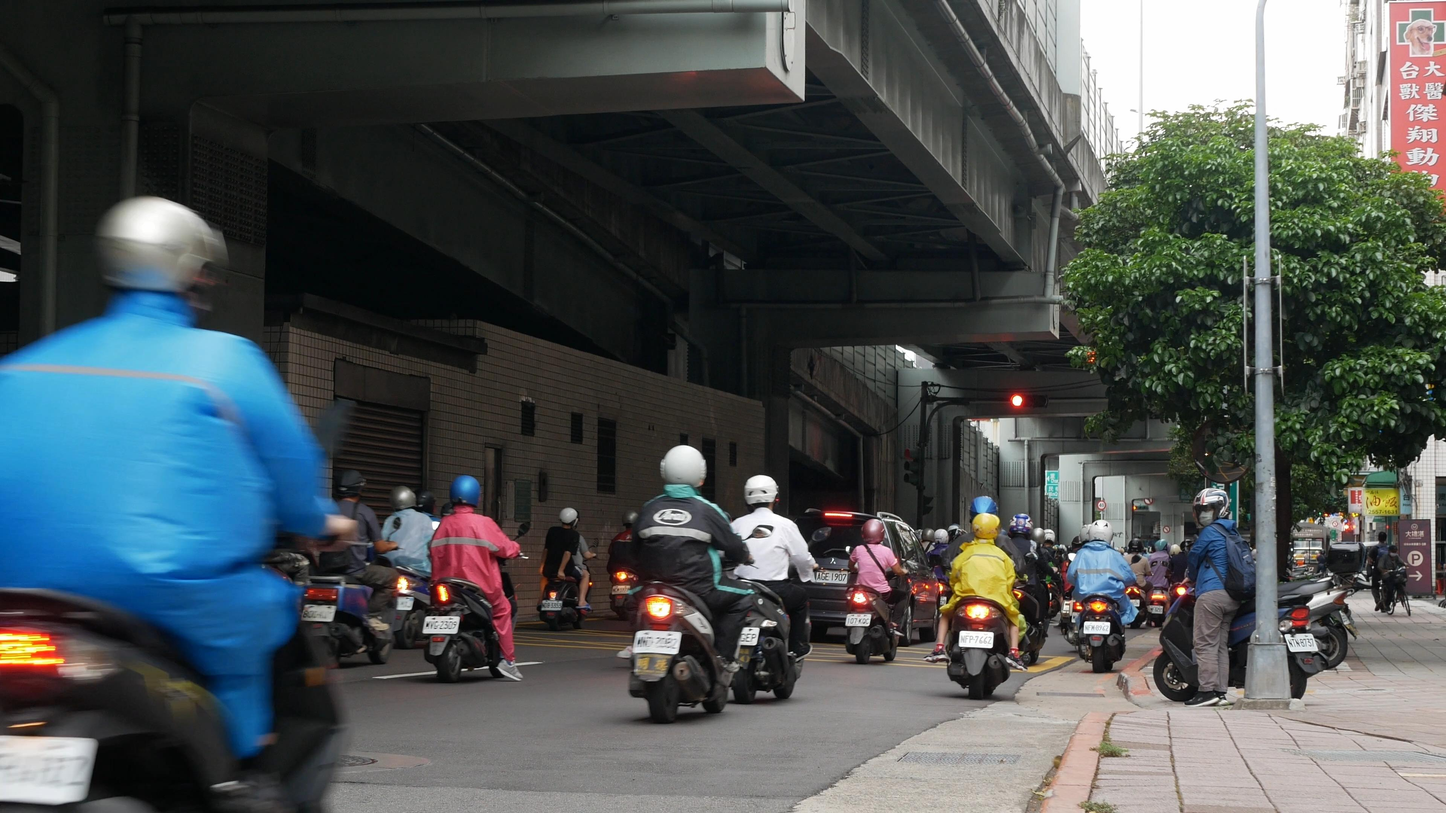bicyclist: (1377, 545, 1411, 616)
driver: (0, 198, 373, 813), (628, 444, 772, 725), (729, 475, 831, 704), (422, 475, 531, 683), (921, 496, 1028, 701), (301, 468, 407, 665), (1067, 519, 1140, 673), (845, 518, 916, 665), (536, 507, 599, 632), (607, 509, 638, 620), (1123, 538, 1158, 629), (1147, 539, 1172, 628)
helmet: (96, 199, 232, 323), (660, 445, 707, 488), (1192, 487, 1229, 529), (744, 475, 780, 510), (450, 474, 481, 509), (332, 469, 367, 497), (971, 513, 1001, 541), (970, 496, 999, 524), (389, 486, 416, 512), (1009, 513, 1034, 540), (861, 519, 886, 545), (1089, 519, 1113, 545), (416, 489, 437, 515), (558, 508, 581, 530), (622, 509, 639, 527), (1030, 528, 1046, 545), (1079, 524, 1093, 543), (1128, 538, 1144, 554), (1154, 539, 1171, 553), (934, 529, 949, 544), (1180, 539, 1195, 554), (1043, 529, 1055, 546), (922, 528, 935, 542)
no-helmet: (1388, 546, 1398, 557)
